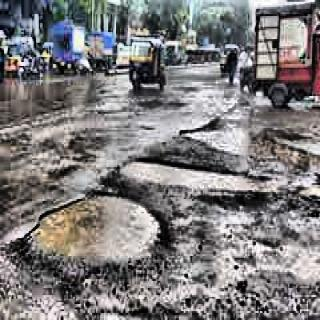pothole: (31, 182, 162, 294), (117, 153, 278, 215), (235, 219, 317, 307), (184, 113, 320, 150), (0, 82, 69, 122), (220, 92, 253, 114)
